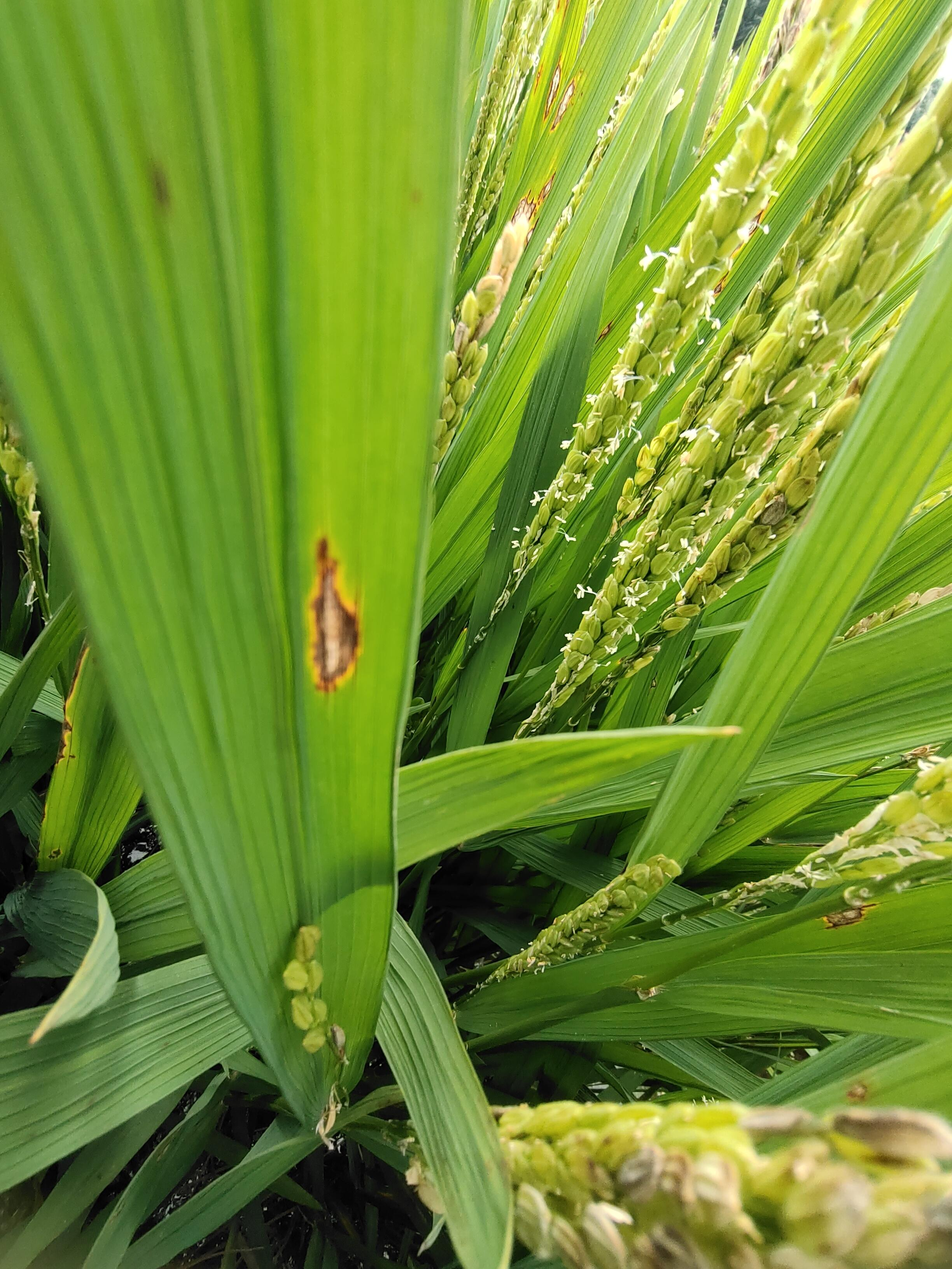LEAF BLAST: (308, 538, 359, 692)
